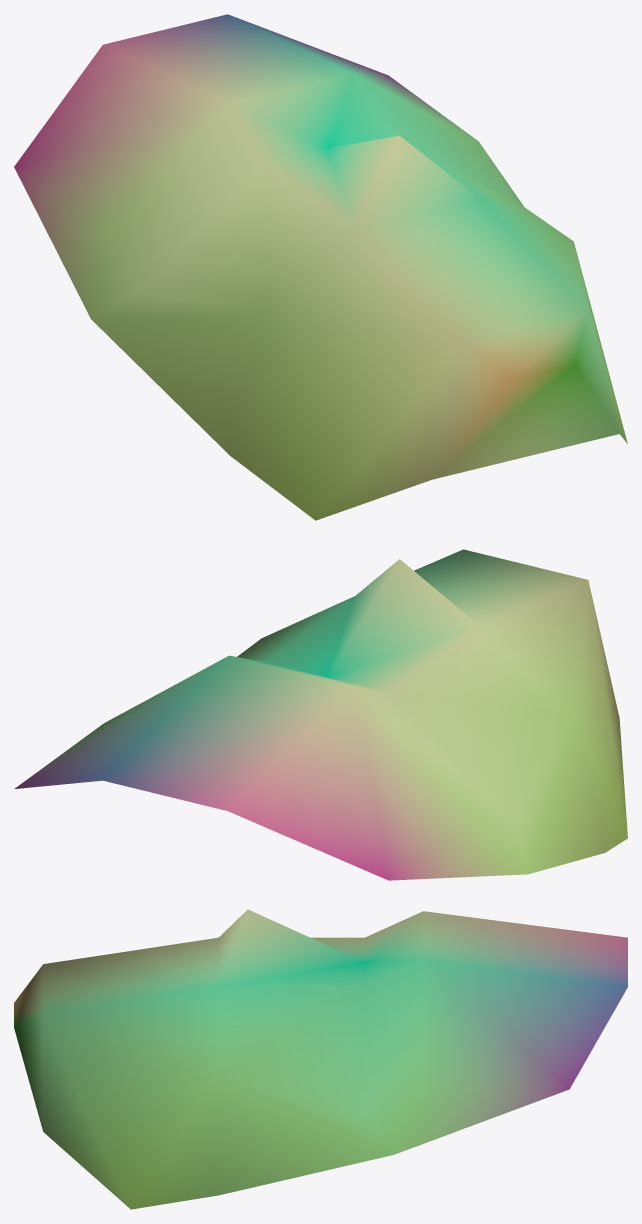
3 views of the same model, one above another, from view 1: azimuth 30°, elevation 25°; view 2: azimuth 150°, elevation 25°; view 3: azimuth 270°, elevation 25° (orthographic). The views are drawn at different scales.
Parts seen in each view (by area): view 1: part; view 2: part; view 3: part.
Boxes of the visible parts, x1,y1,x2,y2 form: part: [14, 14, 627, 520]; part: [14, 549, 627, 880]; part: [14, 909, 627, 1209].
Bounding box in the file's own units: 14 × 9 × 21.
